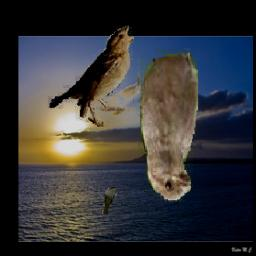Cuckoo: (103, 186, 118, 214)
Sparrow: (138, 19, 198, 203), (48, 24, 134, 128)
